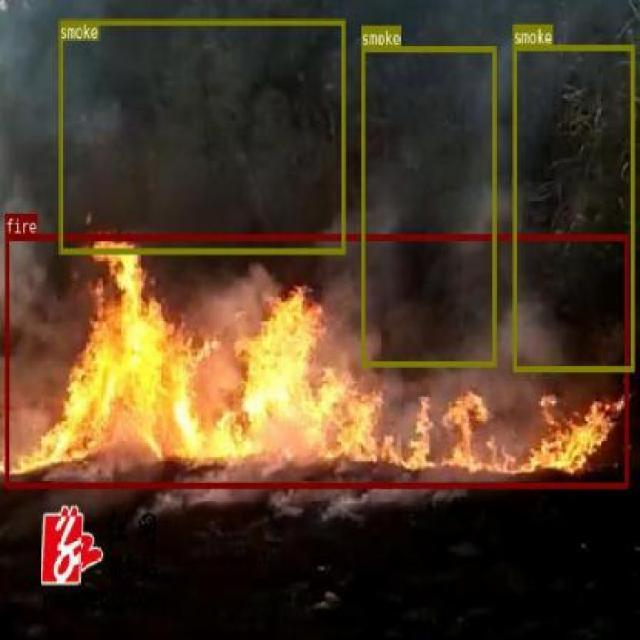Fire: (5, 233, 628, 487)
Smoke: (59, 18, 344, 254), (360, 46, 494, 366), (512, 44, 634, 372)
